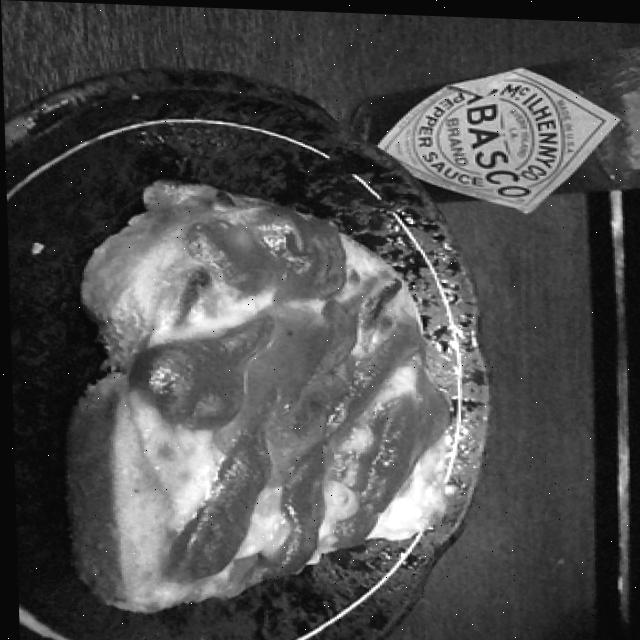面包点心: (66, 193, 447, 628)
